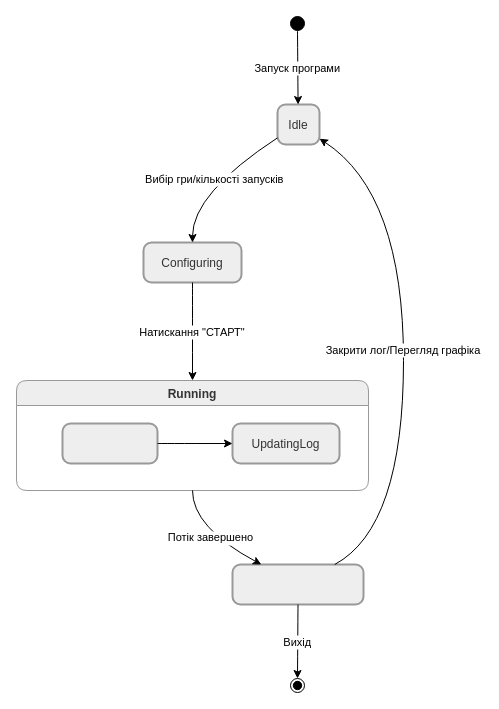
The diagram is 499 pixels wide and 709 high, and some of its shapes have lost their labels. Each missing label, with the centre of its shape:
"Processing" belongs at (109,443).
"ShowingResults" belongs at (297,584).
